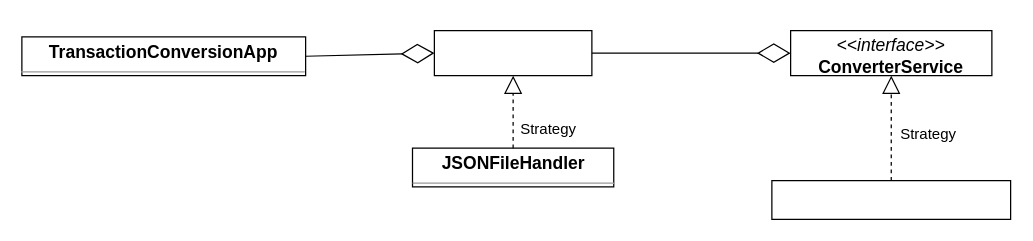
This 1033x241 diagram has some shape labels left out. Each missing label, with the centre of its shape:
<<interface>> FileHandler: point (512, 52)
ConverterServiceImpl: point (891, 199)
